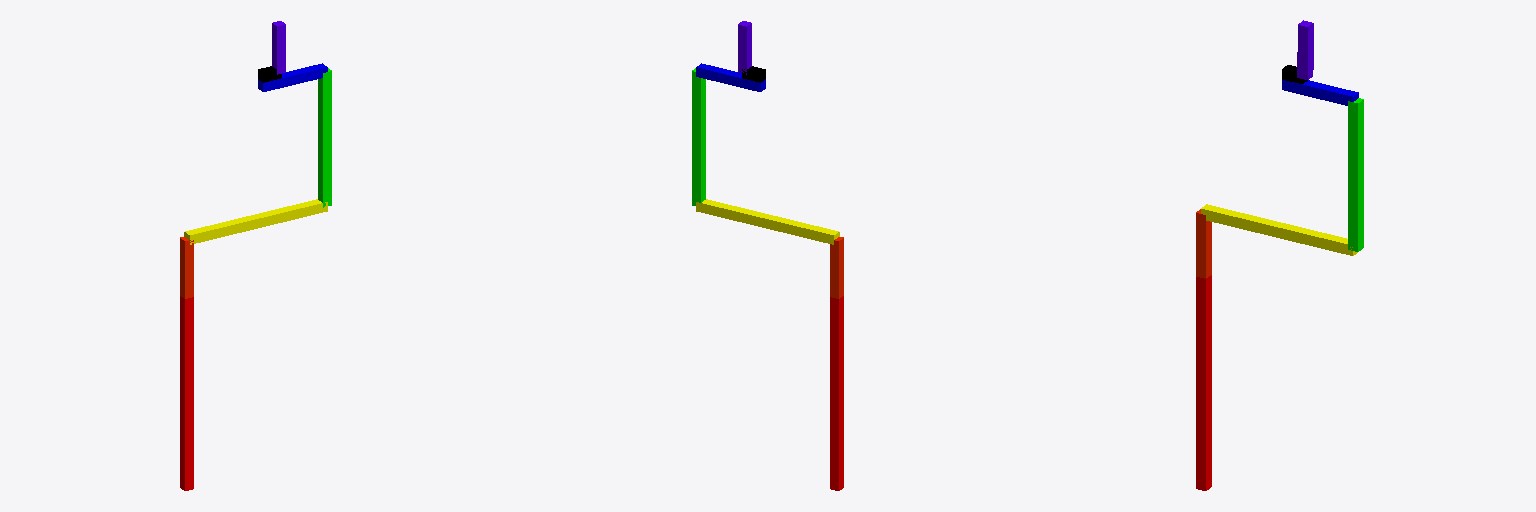
robot.urdf — jongbub:
<?xml version='1.0' ?>
<robot name="jongbub" >

    <material name="red">
        <color rgba="1 0 0 1"/>
    </material>
    <material name="orange">
        <color rgba="1 0.2 0 1"/>
    </material>
    <material name="yellow">
        <color rgba="1 1 0 1"/>
    </material>
    <material name="green">
        <color rgba="0 1 0 1"/>
    </material>
    <material name="blue">
        <color rgba="0 0 1 1"/>
    </material>
    <material name="black">
        <color rgba="0 0 0 1"/>
    </material>
    <material name="purple">
        <color rgba="0.4 0 1 1"/>
    </material>
    
    <link name="base">
        <inertial>
            <origin xyz="0 0 0" rpy="0 0 0"/>
            <mass value="1"/>
            <inertia ixx="1"  ixy="0"  ixz="0" iyy="1" iyz="0" izz="1" />
        </inertial>
        <visual>
            <origin xyz="0 0 0" rpy="0 0 0" />
            <geometry>
                <box size="0.01 0.01 0.2" />
                <mesh filename="package://jongbub/meshes/axis0.stl"/>
            </geometry>
            <material name="red"/>
        </visual>
    </link>

     <joint name="joint01" type="revolute">
        <origin xyz="0 0 0.1" rpy="0 0 0"/>
        <parent link="base"/>
        <child link="link1"/>
        <axis xyz='0 0 1'/>
        <calibration rising="0.0"/>
        <dynamics damping="0.0" friction="0.0"/>
        <limit effort="30" velocity="1.0" lower="-3.14" upper="3.14" />
        <safety_controller k_velocity="10" k_position="15" soft_lower_limit="-3.14" soft_upper_limit="3.14" />
    </joint>

    <link name="link1">
        <inertial>
            <origin xyz="0 0 0" rpy="0 0 0"/>
            <mass value="1"/>
            <inertia ixx="1"  ixy="0"  ixz="0" iyy="1" iyz="0" izz="1" />
        </inertial>
        <visual>
            <origin xyz="0 0 0.03" rpy="0 0 0" />
            <geometry>
                <box size="0.01 0.01 0.06" />
                <mesh filename="package://jongbub/meshes/axis1.stl"/>
            </geometry>
            <material name="orange"/>
        </visual>
    </link>

    <joint name="joint12" type="revolute">
        <origin xyz="0 0 0.06" rpy="0 0 0"/>
        <parent link="link1"/>
        <child link="link2"/>
        <axis xyz='0 1 0'/>
        <calibration rising="0.0"/>
        <dynamics damping="0.0" friction="0.0"/>
        <limit effort="30" velocity="1.0" lower="-3.14" upper="3.14" />
        <safety_controller k_velocity="10" k_position="15" soft_lower_limit="-3.14" soft_upper_limit="3.14" />
    </joint>

    <link name="link2">
        <inertial>
            <origin xyz="0 0 0" rpy="0 0 0"/>
            <mass value="1"/>
            <inertia ixx="1"  ixy="0"  ixz="0" iyy="1" iyz="0" izz="1" />
        </inertial>
        <visual>
            <origin xyz="0.075 0 0" rpy="0 0 0" />
            <geometry>
                <box size="0.15 0.01 0.01" />
                <mesh filename="package://jongbub/meshes/axis2.stl"/>
            </geometry>
            <material name="yellow"/>
        </visual>
    </link>


    <joint name="joint23" type="revolute">
        <origin xyz="0.15 0 0" rpy="0 -1.57 0"/>
        <parent link="link2"/>
        <child link="link3"/>
        <axis xyz='0 1 0'/>
        <calibration rising="0.0"/>
        <dynamics damping="0.0" friction="0.0"/>
        <limit effort="30" velocity="1.0" lower="-3.14" upper="3.14" />
        <safety_controller k_velocity="10" k_position="15" soft_lower_limit="-3.14" soft_upper_limit="3.14" />
    </joint>

    <link name="link3">
        <inertial>
            <origin xyz="0 0 0" rpy="0 0 0"/>
            <mass value="1"/>
            <inertia ixx="1"  ixy="0"  ixz="0" iyy="1" iyz="0" izz="1" />
        </inertial>
        <visual>
            <origin xyz="0.07 0 0" rpy="0 0 0" />
            <geometry>
                <box size="0.14 0.01 0.01" />
                <mesh filename="package://jongbub/meshes/axis3.stl"/>
            </geometry>
            <material name="green"/>
        </visual>
    </link>


    <joint name="joint34" type="revolute">
        <origin xyz="0.14 0 0" rpy="1.57 0 0"/>
        <parent link="link3"/>
        <child link="link4"/>
        <axis xyz='1 0 0'/>
        <calibration rising="0.0"/>
        <dynamics damping="0.0" friction="0.0"/>
        <limit effort="30" velocity="1.0" lower="-3.14" upper="3.14" />
        <safety_controller k_velocity="10" k_position="15" soft_lower_limit="-3.14" soft_upper_limit="3.14" />
    </joint>

    <link name="link4">
        <inertial>
            <origin xyz="0 0 0" rpy="0 0 0"/>
            <mass value="1"/>
            <inertia ixx="1"  ixy="0"  ixz="0" iyy="1" iyz="0" izz="1" />
        </inertial>
        <visual>
            <origin xyz="0 0.035 0" rpy="0 0 0" />
            <geometry>
                <box size="0.01 0.07 0.01" />
                <mesh filename="package://jongbub/meshes/axis4.stl"/>
            </geometry>
            <material name="blue"/>
        </visual>
    </link>


    <joint name="joint45" type="revolute">
        <origin xyz="0.01 0.07 0" rpy="1.57 0 0"/>
        <parent link="link4"/>
        <child link="link5"/>
        <axis xyz='1 0 0'/>
        <calibration rising="0.0"/>
        <dynamics damping="0.0" friction="0.0"/>
        <limit effort="30" velocity="1.0" lower="-3.14" upper="3.14" />
        <safety_controller k_velocity="10" k_position="15" soft_lower_limit="-3.14" soft_upper_limit="3.14" />
    </joint>

    <link name="link5">
        <inertial>
            <origin xyz="0 0 0" rpy="0 0 0"/>
            <mass value="1"/>
            <inertia ixx="1"  ixy="0"  ixz="0" iyy="1" iyz="0" izz="1" />
        </inertial>
        <visual>
            <origin xyz="0 0 0.01" rpy="0 0 0" />
            <geometry>
                <box size="0.01 0.01 0.02" />
                <mesh filename="package://jongbub/meshes/axis5.stl"/>
            </geometry>
            <material name="black"/>
        </visual>
    </link>

    <joint name="joint56" type="revolute">
        <origin xyz="0 0 0.02" rpy="0 1.57 0"/>
        <parent link="link5"/>
        <child link="link6"/>
        <axis xyz='0 0 1'/>
        <calibration rising="0.0"/>
        <dynamics damping="0.0" friction="0.0"/>
        <limit effort="30" velocity="1.0" lower="-3.14" upper="3.14" />
        <safety_controller k_velocity="10" k_position="15" soft_lower_limit="-3.14" soft_upper_limit="3.14" />
    </joint>

    <link name="link6">
        <inertial>
            <origin xyz="0 0 0" rpy="0 0 0"/>
            <mass value="1"/>
            <inertia ixx="1"  ixy="0"  ixz="0" iyy="1" iyz="0" izz="1" />
        </inertial>
        <visual>
            <origin xyz="0 0 0.025" rpy="0 0 0" />
            <geometry>
                <box size="0.01 0.01 0.05" />
                <mesh filename="package://jongbub/meshes/axis6.stl"/>
            </geometry>
            <material name="purple"/>
        </visual>
    </link>

</robot>

--- Facts derived from the render (not from the file) ---
The picture shows the robot from 3 angles, left to right: view 1: azimuth 30°, elevation 25°; view 2: azimuth 150°, elevation 25°; view 3: azimuth 330°, elevation 25°; orthographic projection.
Model jongbub with 7 links and 6 joints (6 revolute), rooted at base, posed every joint at zero.
Links seen in each view (by area): view 1: base, link2, link3, link4, link1, link6; view 2: base, link2, link3, link4, link1, link6; view 3: base, link2, link3, link4, link1, link6.
Link boxes in pixels (x1=…): base: x1=180, y1=296, x2=193, y2=490; link2: x1=184, y1=199, x2=327, y2=244; link3: x1=318, y1=68, x2=331, y2=207; link4: x1=258, y1=63, x2=327, y2=91; link1: x1=180, y1=237, x2=193, y2=298; link6: x1=272, y1=21, x2=285, y2=74; base: x1=830, y1=296, x2=843, y2=490; link2: x1=696, y1=199, x2=839, y2=244; link3: x1=692, y1=68, x2=705, y2=205; link4: x1=696, y1=63, x2=765, y2=91; link1: x1=830, y1=237, x2=843, y2=298; link6: x1=738, y1=21, x2=751, y2=74; base: x1=1196, y1=275, x2=1211, y2=490; link2: x1=1201, y1=204, x2=1357, y2=255; link3: x1=1348, y1=98, x2=1363, y2=251; link4: x1=1282, y1=80, x2=1358, y2=105; link1: x1=1196, y1=209, x2=1211, y2=278; link6: x1=1297, y1=20, x2=1313, y2=79.
Bounding box of the posed robot: 0.1601 × 0.0101 × 0.46 m (x, y, z).
Geometry: primitives only (box / cylinder / sphere), no mesh files.
